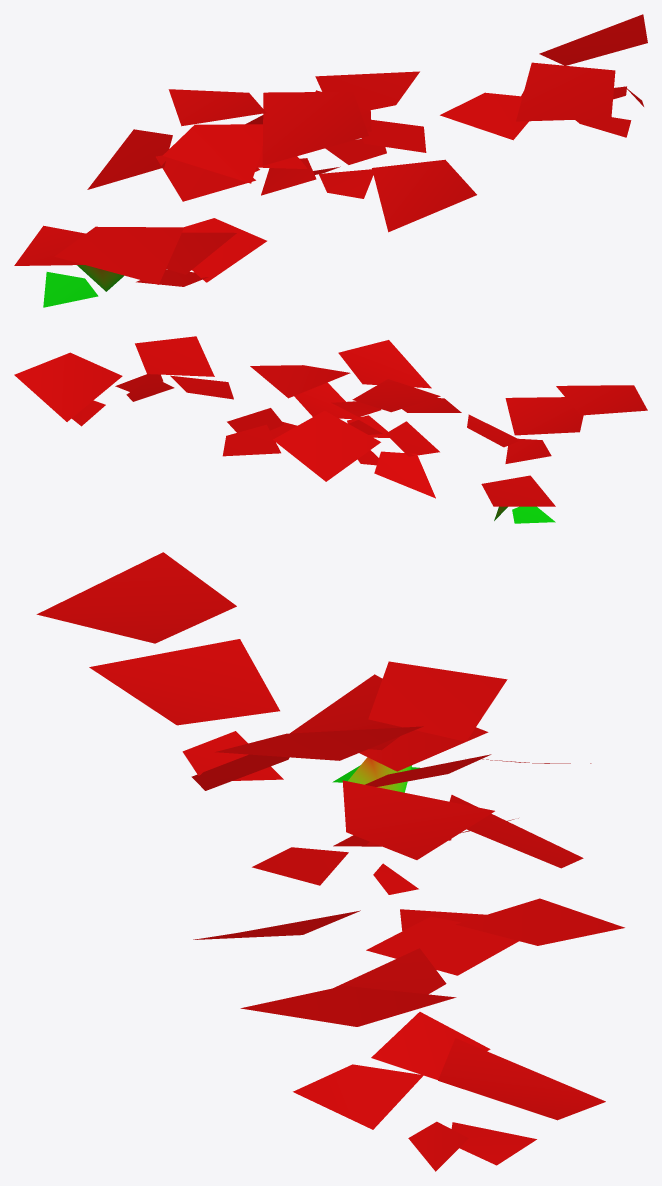
Rendered from Var5_LOD5.fbx.
The picture shows the model from 3 angles, top to bottom: view 1: azimuth 30°, elevation 25°; view 2: azimuth 150°, elevation 25°; view 3: azimuth 270°, elevation 25°; orthographic projection. The views are drawn at different scales.
Parts seen in each view (by area): view 1: _p9o2_Var5_LOD5; view 2: _p9o2_Var5_LOD5; view 3: _p9o2_Var5_LOD5.
Boxes of the visible parts, bbox=[...] form: _p9o2_Var5_LOD5: bbox=[14, 14, 647, 307]; _p9o2_Var5_LOD5: bbox=[14, 336, 647, 523]; _p9o2_Var5_LOD5: bbox=[36, 552, 624, 1171].
Bounding box in the file's own units: 65.52 × 13.72 × 31.22.
